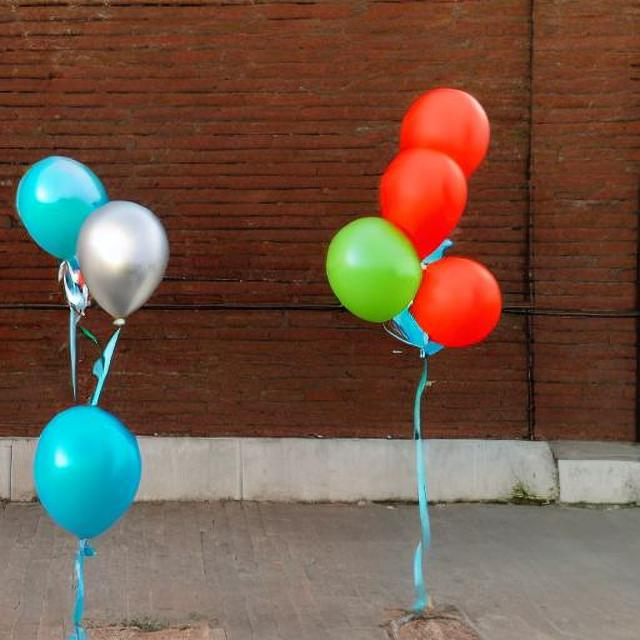balloon: (313, 90, 504, 482), (23, 168, 169, 399), (28, 403, 141, 592), (398, 252, 505, 354)
